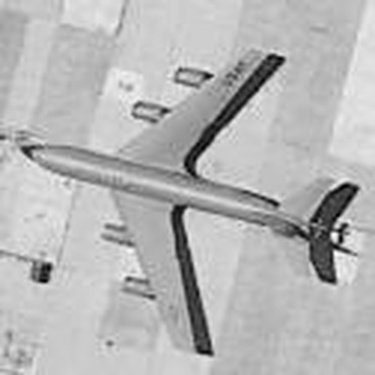airplane: (9, 28, 354, 365)
